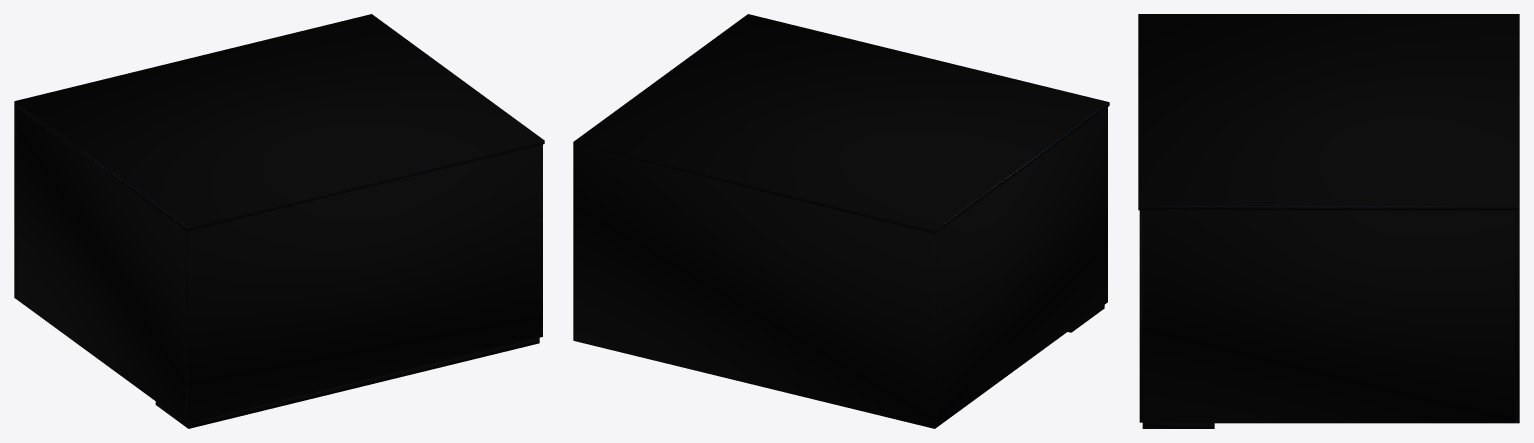
Rendered from hall_grand_glow.glb.
The picture shows the model from 3 angles, left to right: view 1: azimuth 30°, elevation 25°; view 2: azimuth 150°, elevation 25°; view 3: azimuth 270°, elevation 25°; orthographic projection. The views are drawn at different scales.
Parts seen in each view (by area): view 1: grand_shell, grand_ceiling, grand_floor; view 2: grand_shell, grand_ceiling; view 3: grand_shell, grand_ceiling, grand_floor.
Part boxes in pixels (x1,y1,x2,y2): grand_shell: (14,105,542,423); grand_ceiling: (14,14,544,230); grand_floor: (155,337,539,428); grand_shell: (573,107,1107,428); grand_ceiling: (573,14,1109,233); grand_shell: (1139,210,1519,423); grand_ceiling: (1138,14,1519,210); grand_floor: (1142,423,1214,428).
Bounding box in the file's own units: 32.6 × 17.72 × 27.3.
Materials: 5 (5 with a texture image).
